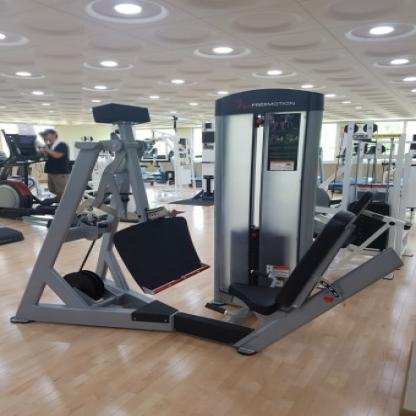leg press: (12, 78, 416, 416)
